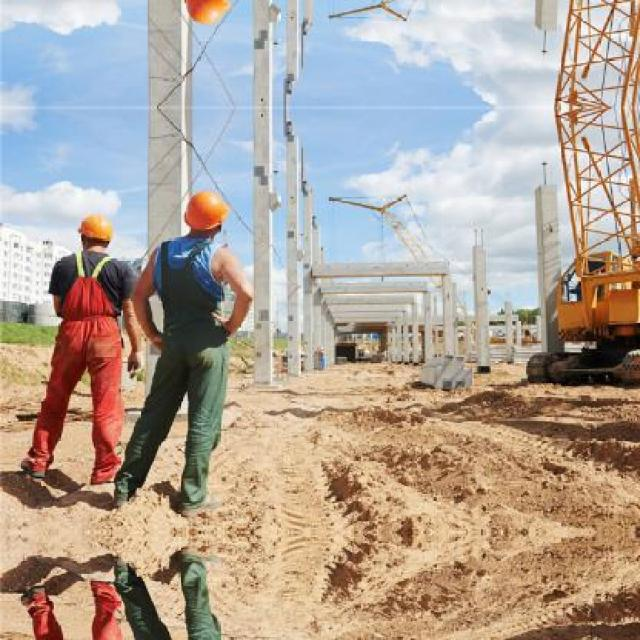helmet: (176, 179, 236, 246), (72, 204, 112, 258), (175, 0, 236, 35)
